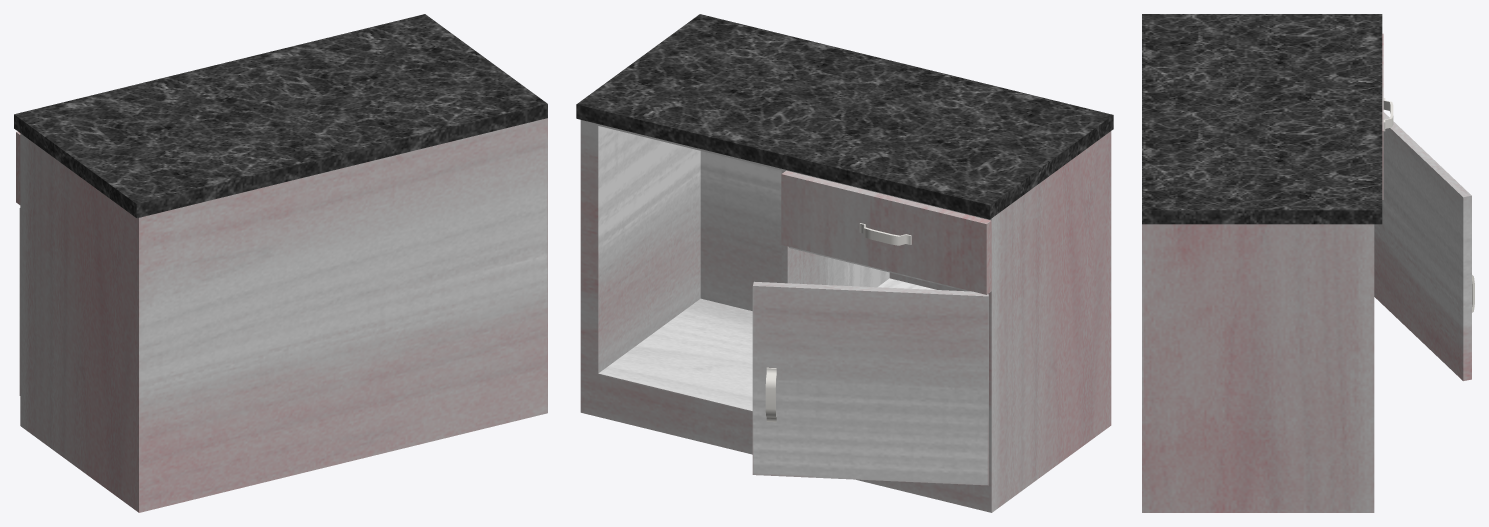
The model's file is cupboard1.fbx.
The picture shows the model from 3 angles, left to right: view 1: azimuth 30°, elevation 25°; view 2: azimuth 150°, elevation 25°; view 3: azimuth 270°, elevation 25°; orthographic projection. The views are drawn at different scales.
Visible parts, largest first — view 1: cupboard1; view 2: cupboard1; view 3: cupboard1.
Part boxes in pixels (x1,y1,x2,y2): cupboard1: (14,14,547,512); cupboard1: (576,14,1113,512); cupboard1: (1142,14,1474,512).
Bounding box in the file's own units: 2.22 × 1.6 × 1.59.
